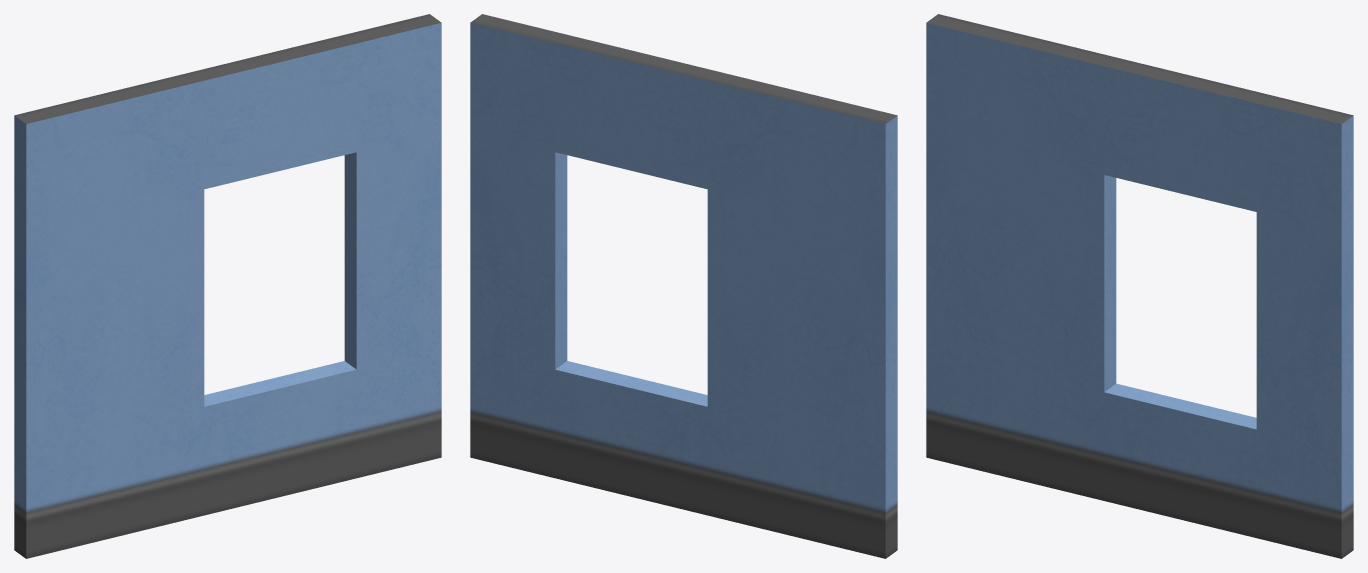
Rendered from Wall_6_D.fbx.
The picture shows the model from 3 angles, left to right: view 1: azimuth 30°, elevation 25°; view 2: azimuth 150°, elevation 25°; view 3: azimuth 330°, elevation 25°; orthographic projection.
Visible parts, largest first — view 1: pCube57; view 2: pCube57; view 3: pCube57.
Boxes of the visible parts, left/top/right/bottom form: pCube57: left=14, top=14, right=441, bottom=558; pCube57: left=470, top=14, right=897, bottom=558; pCube57: left=926, top=14, right=1353, bottom=558.
Bounding box in the file's own units: 4 × 4 × 0.2.
